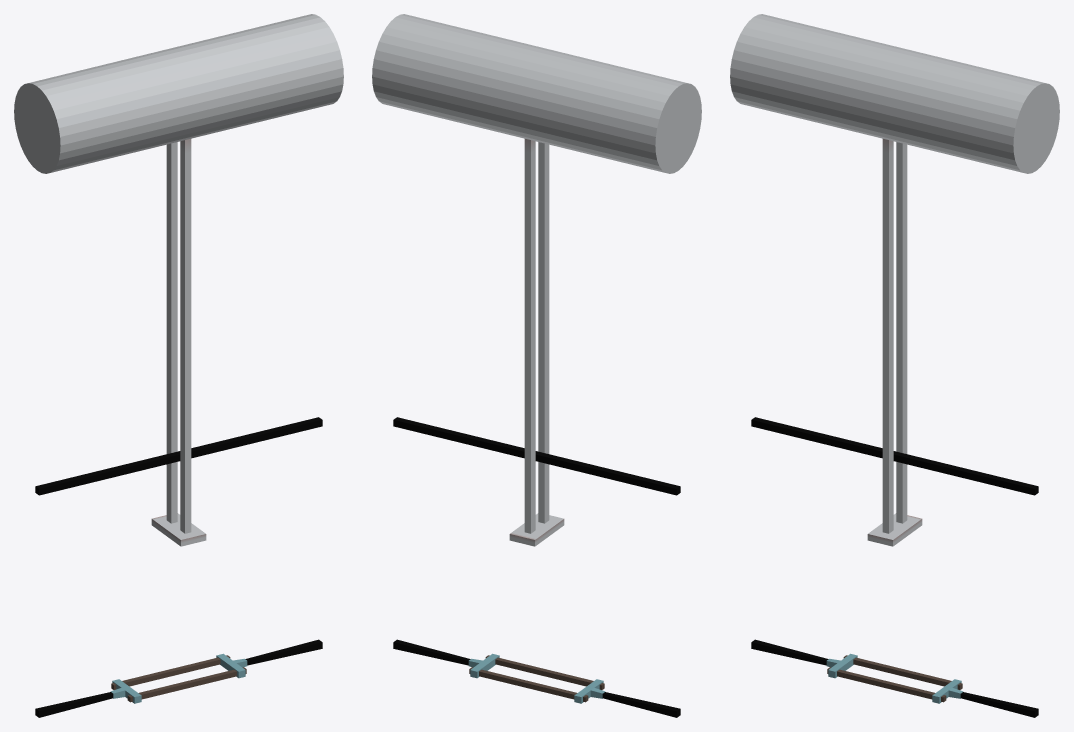
File: moretop_expand-hrigid.obj
3 views of the same model, side by side, from view 1: azimuth 30°, elevation 25°; view 2: azimuth 150°, elevation 25°; view 3: azimuth 330°, elevation 25° (orthographic).
Visible parts, largest first — view 1: moretop_1.001; view 2: moretop_1.001; view 3: moretop_1.001.
Boxes of the visible parts, left/top/right/bottom form: moretop_1.001: left=14, top=14, right=343, bottom=717; moretop_1.001: left=372, top=14, right=701, bottom=717; moretop_1.001: left=730, top=14, right=1059, bottom=717.
Bounding box in the file's own units: 1.4 × 2.98 × 0.3978.
Materials: 2 (2 with a texture image).
